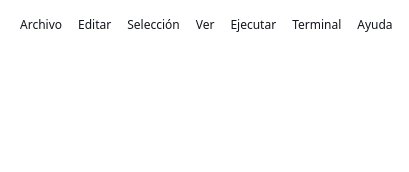
Test: MenuBar › cierra con Escape y devuelve el foco al título
Click the menu item with test id "menu-trigger-file" at [41, 24], box [12, 12, 70, 37]
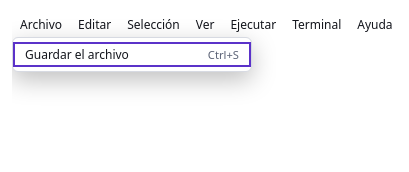
Press Escape
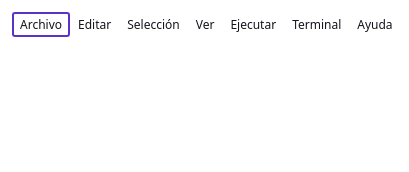
Check: the menu with test id "menu-file" is gone
